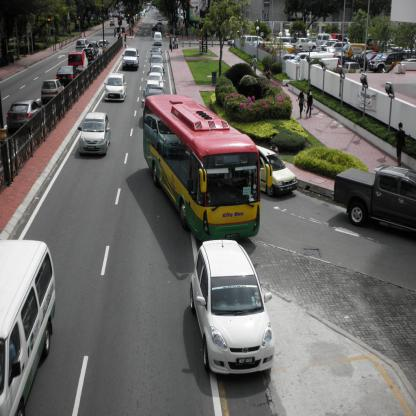Bus: (142, 93, 268, 248)
